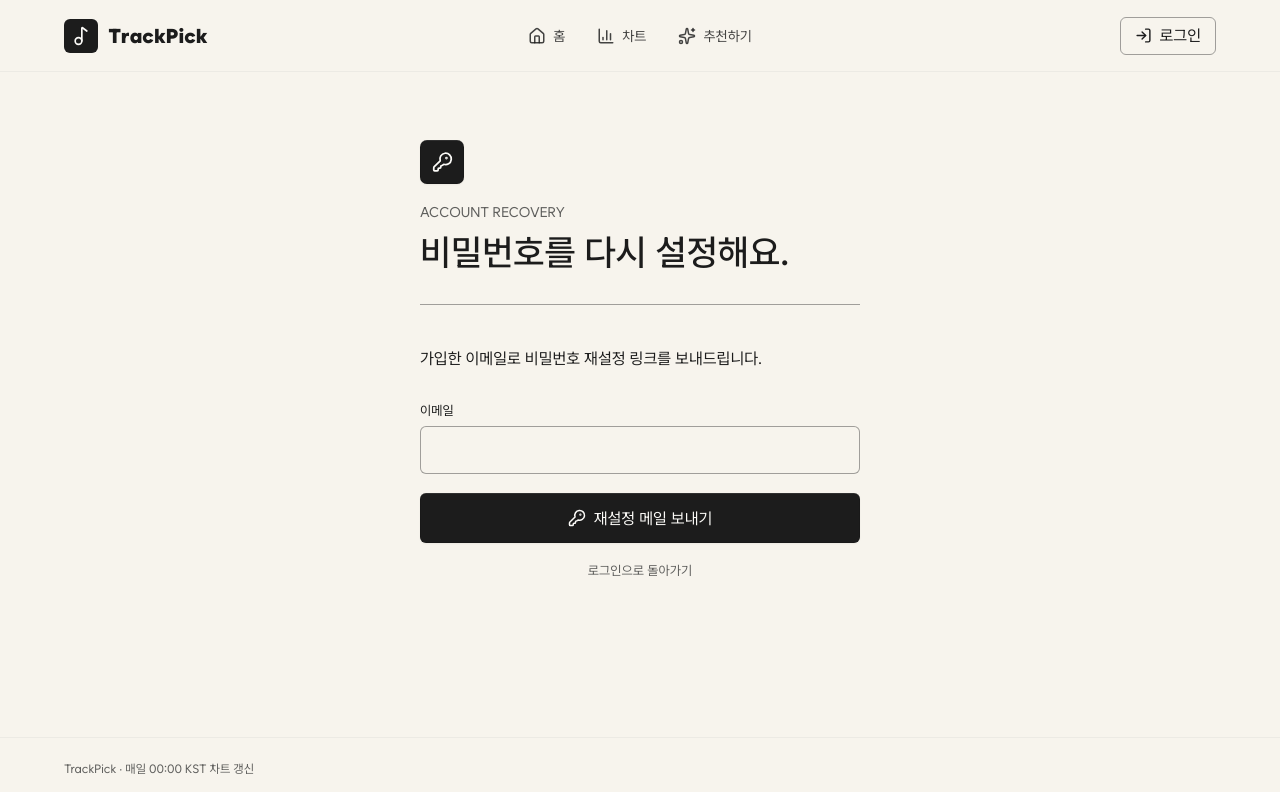
Test case: TrackPick app shell › accepts an empty password recovery response
Type "listener@example.com" into the field labelled "이메일". click: (640, 450)
box: [420,426,860,474]
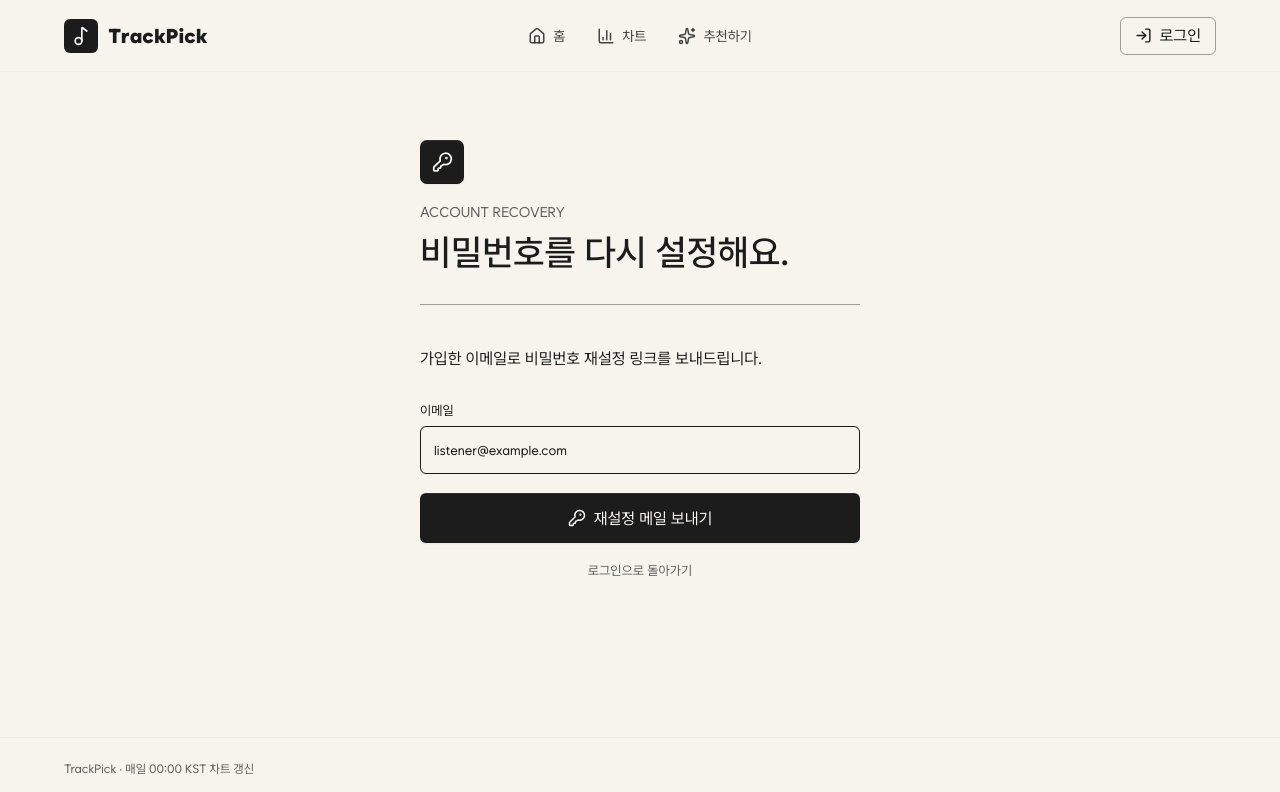
Click the button "재설정 메일 보내기". click: (640, 518)
box: [420,493,860,543]
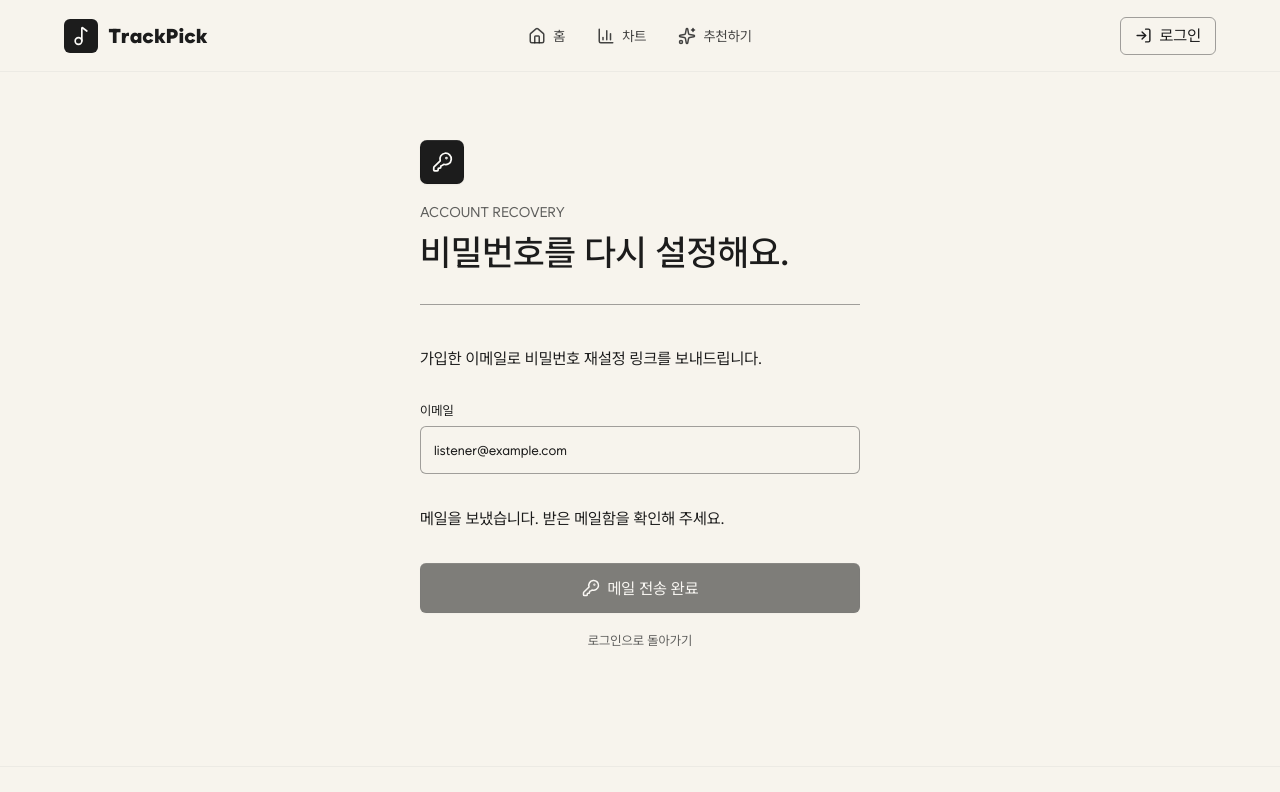
Expected: the text "메일을 보냈습니다. 받은 메일함을 확인해 주세요." is shown, [420,509,725,528]
